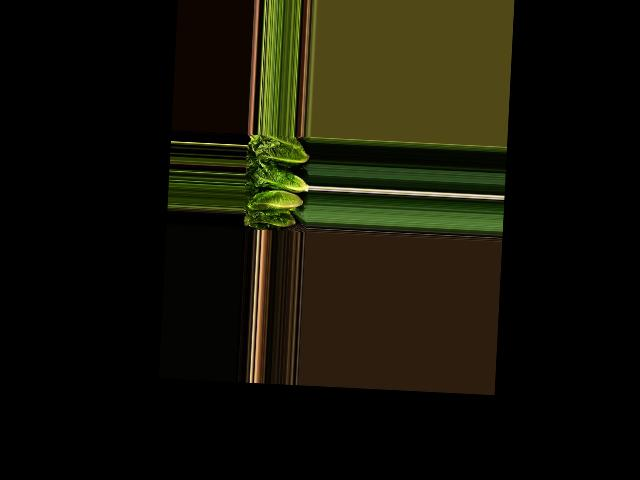lettuce: (243, 209, 294, 227)
